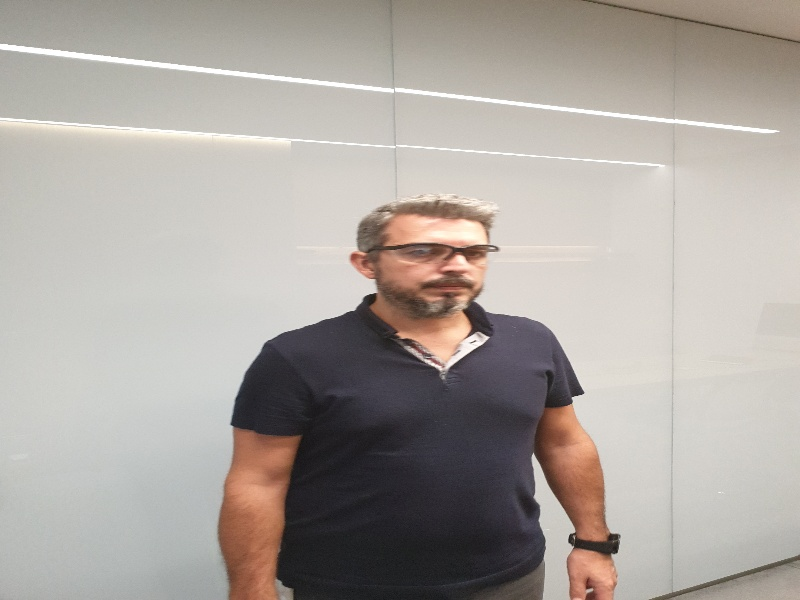Gozluk: (372, 244, 499, 264)
